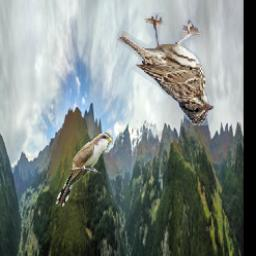Cuckoo: (55, 133, 113, 207)
Sparrow: (118, 12, 215, 125)
